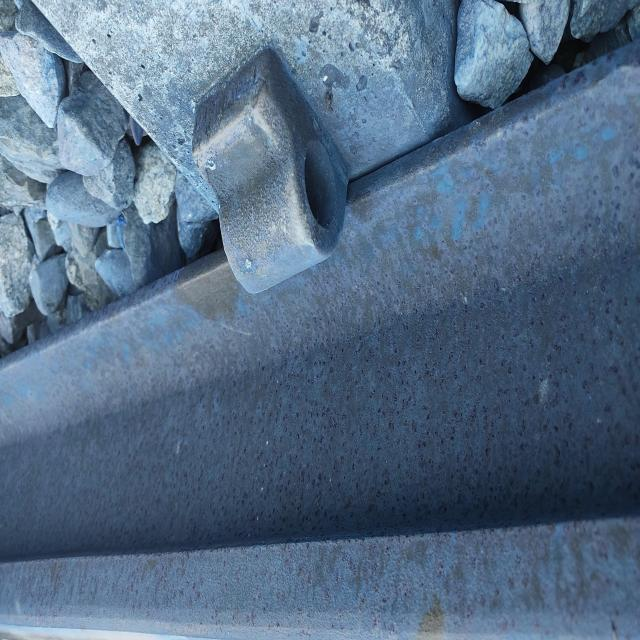Missing Fastener: (158, 65, 383, 319)
